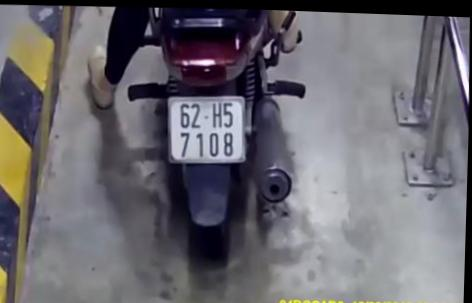LP: (164, 90, 250, 166)
